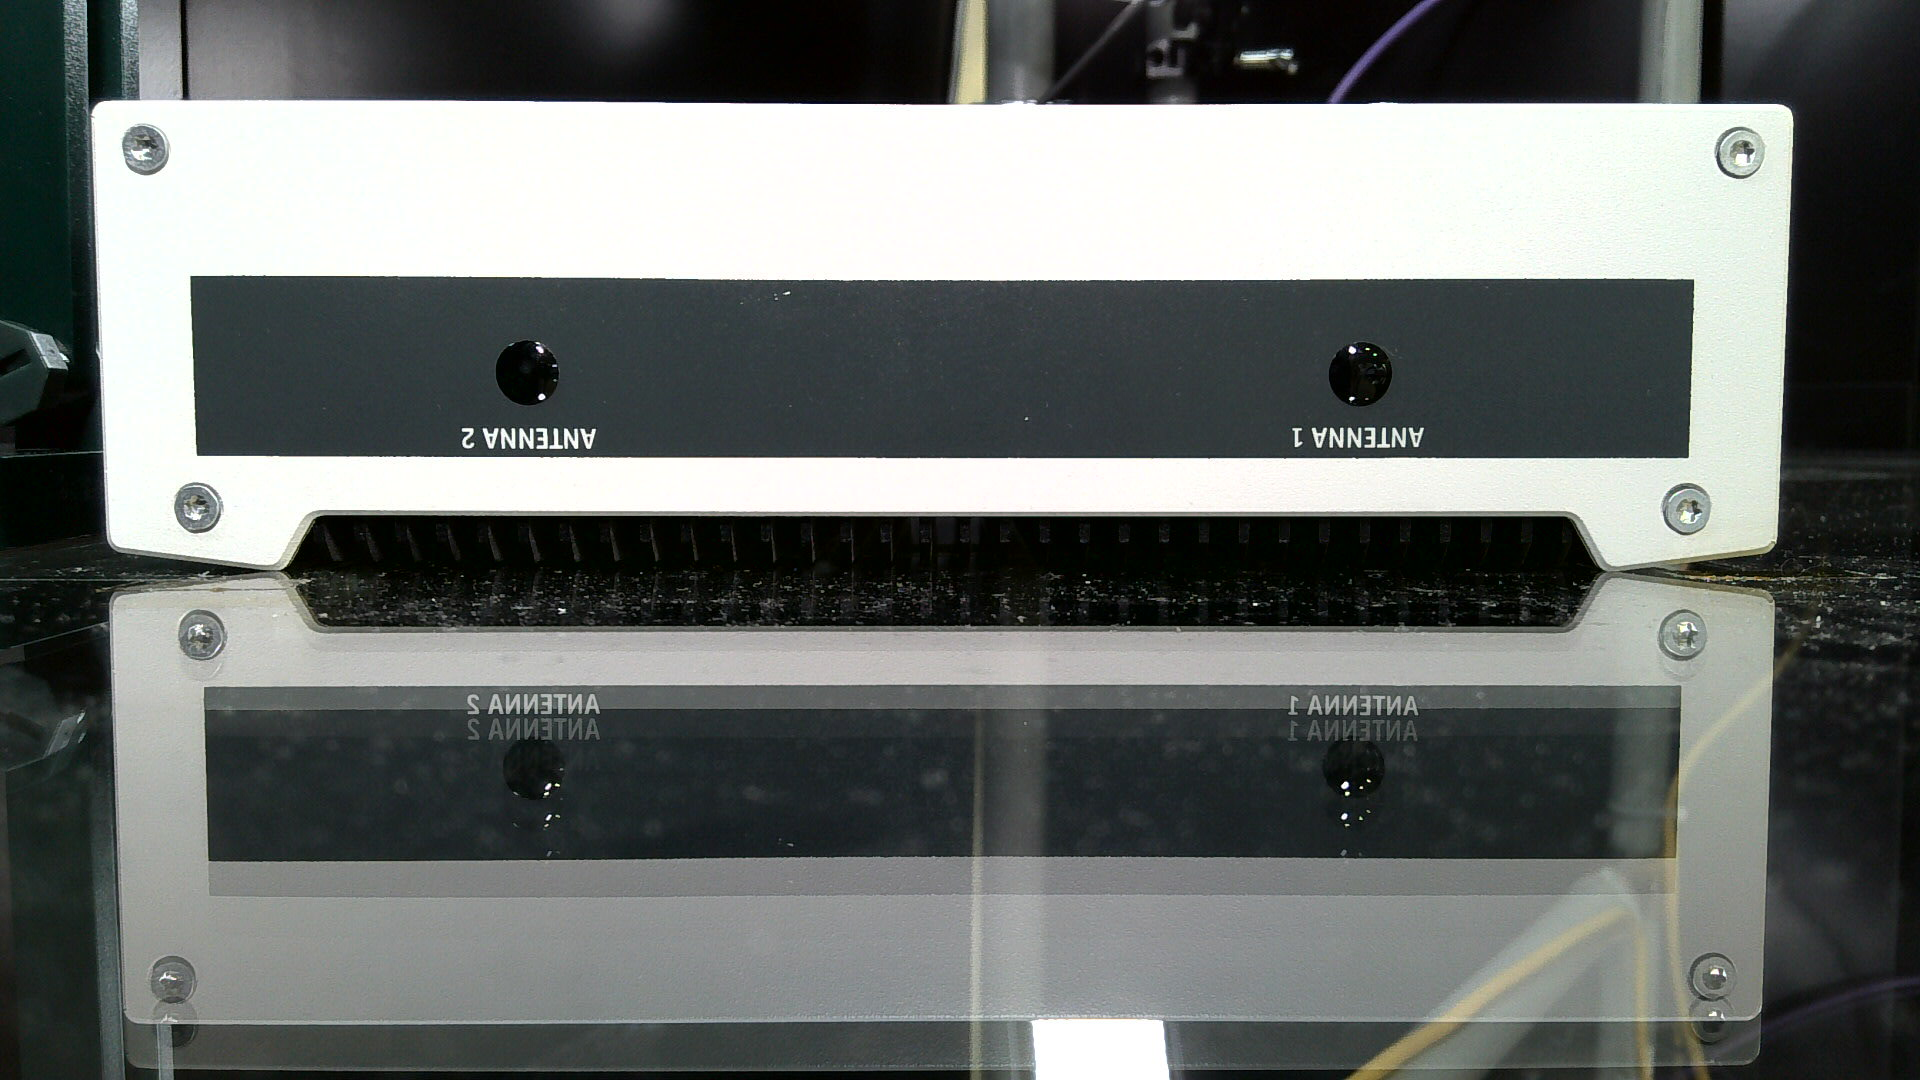CamBack: (62, 73, 1817, 578)
Schraube_gespiegelt: (1677, 944, 1746, 1048), (142, 945, 207, 1054), (171, 603, 235, 691), (1648, 601, 1712, 688)
Schraube_halb: (1650, 473, 1722, 547), (162, 473, 231, 545), (1706, 123, 1774, 189), (111, 119, 177, 183)
